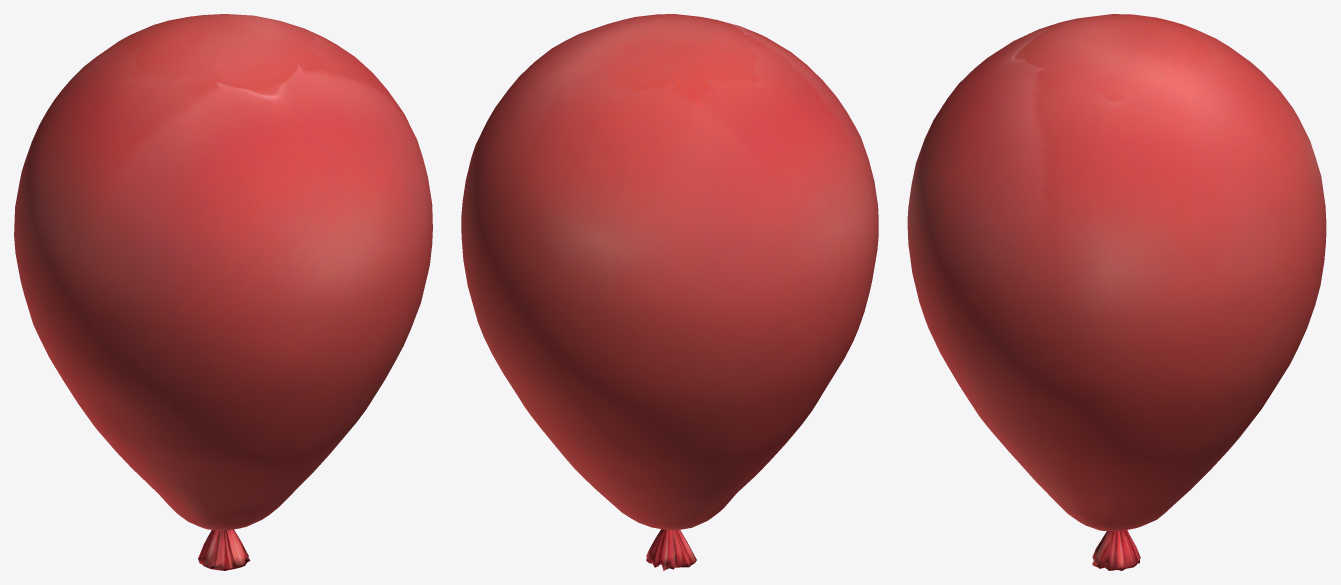
Rendered from A_single_low_poly_3D__1209034552_texture.fbx.
3 views of the same model, side by side, from view 1: azimuth 30°, elevation 25°; view 2: azimuth 150°, elevation 25°; view 3: azimuth 270°, elevation 25° (orthographic).
Parts seen in each view (by area): view 1: input; view 2: input; view 3: input.
Boxes of the visible parts, x1,y1,x2,y2 form: input: (14, 14, 432, 570); input: (461, 14, 878, 570); input: (907, 14, 1326, 570).
Size of the model in its own units: 130 by 181 by 130.
1 material, 1 textured.
